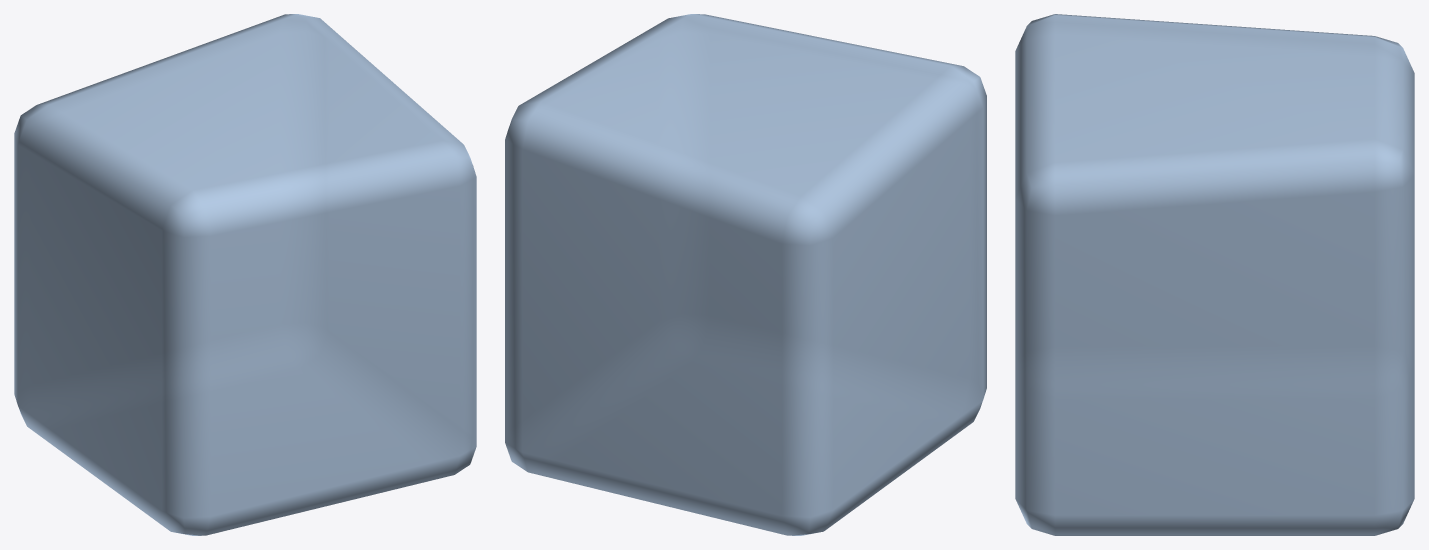
The model's file is Droppy_Cube_Fix.fbx.
3 views of the same model, side by side, from view 1: azimuth 30°, elevation 25°; view 2: azimuth 150°, elevation 25°; view 3: azimuth 270°, elevation 25° (orthographic). The views are drawn at different scales.
Visible parts, largest first — view 1: pCube4; view 2: pCube4; view 3: pCube4.
Part boxes in pixels (x1,y1,x2,y2): pCube4: [14, 14, 476, 535]; pCube4: [505, 14, 986, 535]; pCube4: [1015, 14, 1414, 535].
Bounding box in the file's own units: 2.39 × 2.61 × 2.39.
